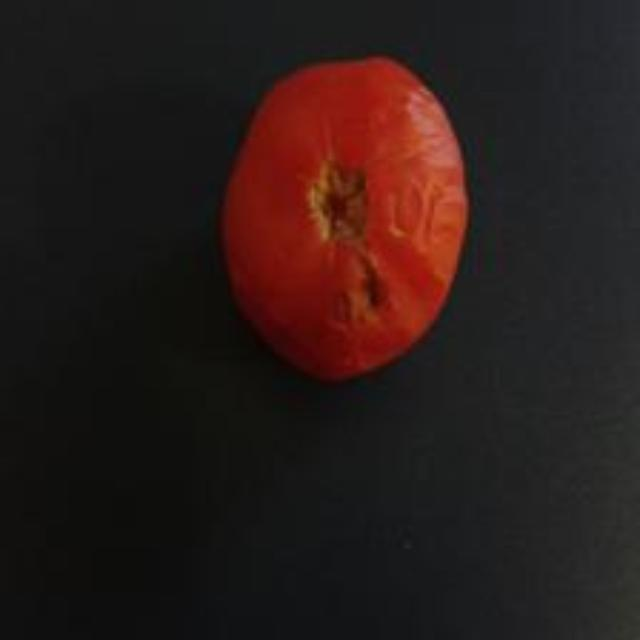defect: (221, 51, 472, 387)
